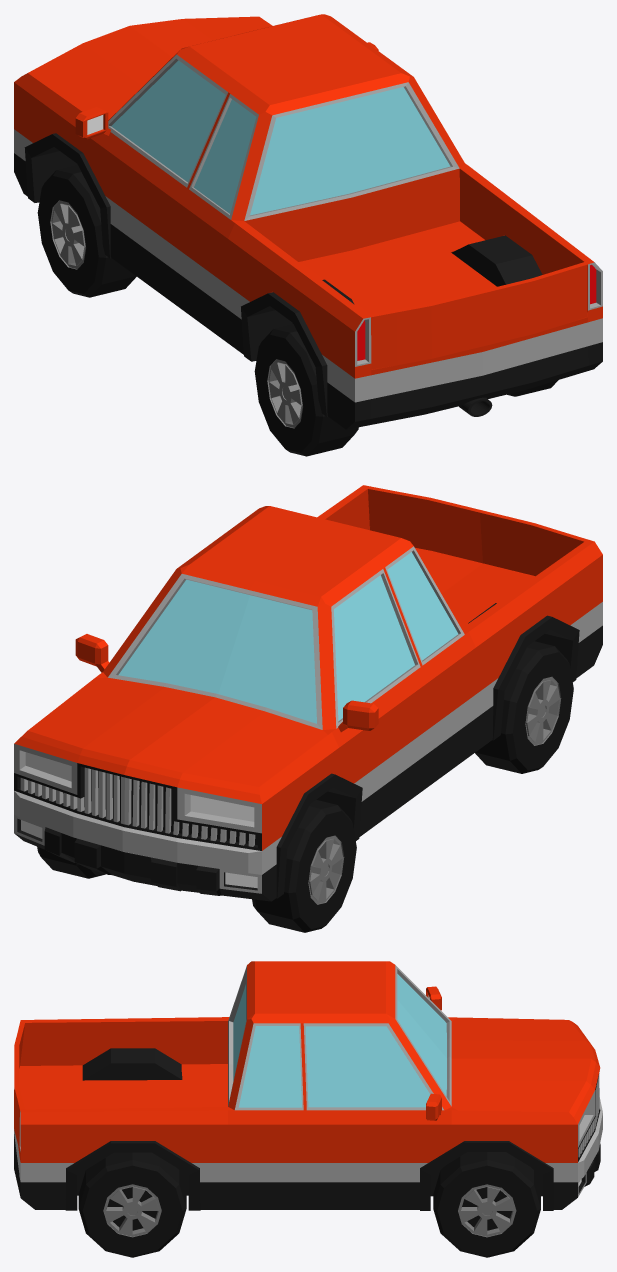
File: pickup_truck.fbx
The picture shows the model from 3 angles, top to bottom: view 1: azimuth 30°, elevation 25°; view 2: azimuth 150°, elevation 25°; view 3: azimuth 270°, elevation 25°; orthographic projection. The views are drawn at different scales.
Visible parts, largest first — view 1: Cube, Wheel 3, Wheel 4, Wheelholder Back, WheelHolder Front, Mirror; view 2: Cube, Wheel 3, Wheel 4, Wheelholder Back, WheelHolder Front, Mirror, Wheel 2; view 3: Cube, Wheel 2, Wheel 1, Wheelholder Back, WheelHolder Front, Mirror.
Boxes of the visible parts, x1,y1,x2,y2 form: Cube: (14,14,602,429); Wheel 3: (37,165,136,297); Wheel 4: (254,324,358,456); Wheelholder Back: (241,235,542,416); WheelHolder Front: (24,133,110,258); Mirror: (75,42,378,139); Cube: (14,485,602,901); Wheel 3: (252,800,356,932); Wheel 4: (475,641,573,773); Wheelholder Back: (468,603,579,740); WheelHolder Front: (276,773,362,898); Mirror: (75,634,378,732); Wheel 2: (37,846,105,878); Cube: (14,961,602,1209); Wheel 2: (433,1152,540,1257); Wheel 1: (78,1152,186,1257); Wheelholder Back: (65,1048,200,1210); WheelHolder Front: (420,1141,553,1210); Mirror: (426,986,441,1120).
Size of the model in its own units: 177 by 156 by 369.
